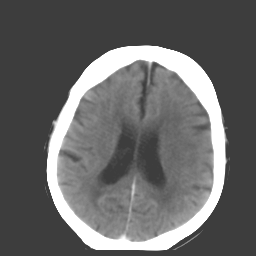ischemic: (162, 85, 211, 198)
